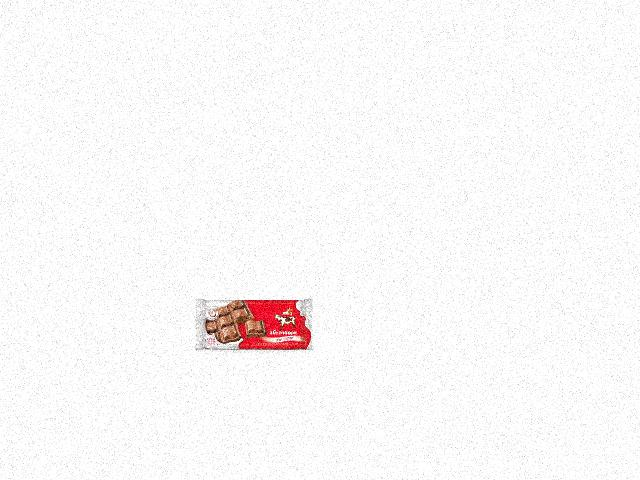chocolate: (191, 297, 313, 350)
